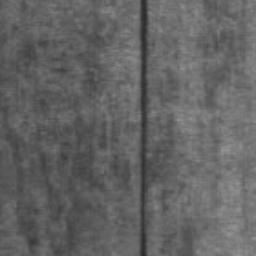Scratches: (139, 0, 148, 256)
